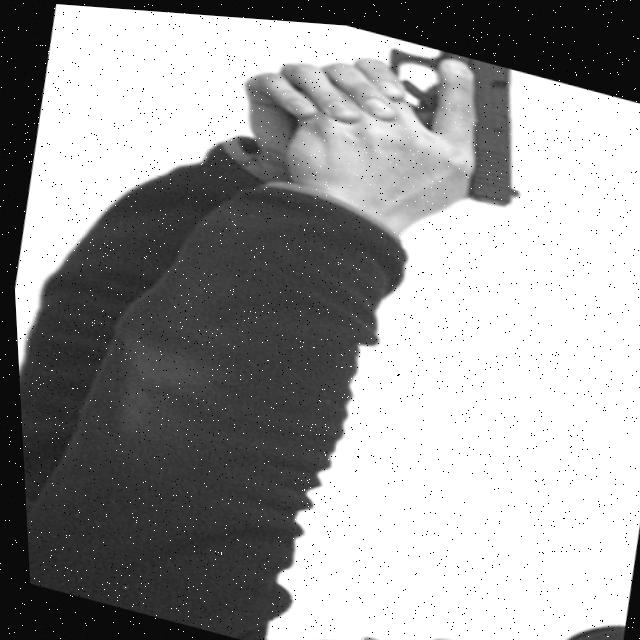pistol: (363, 29, 546, 209)
